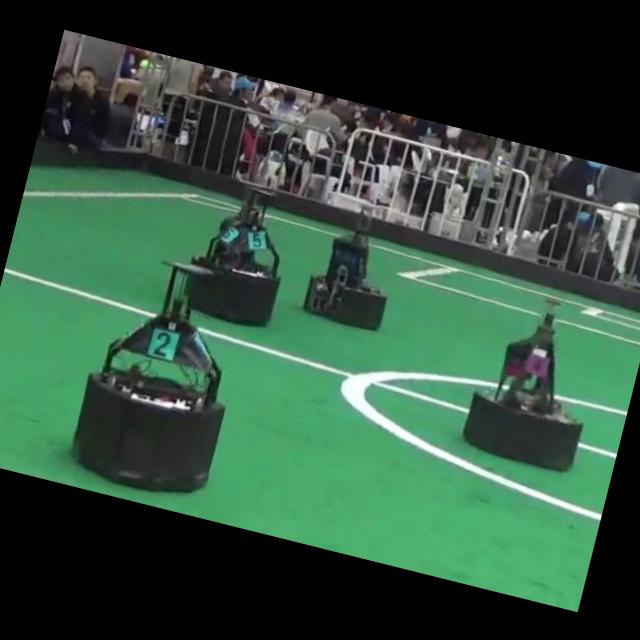robot: (72, 262, 224, 490), (463, 299, 584, 470), (188, 186, 280, 323), (303, 230, 385, 328)
